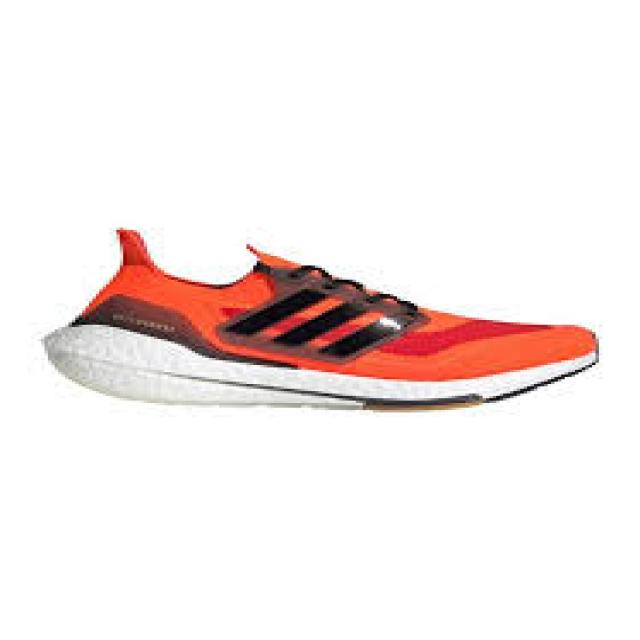shoe: (38, 228, 608, 419)
